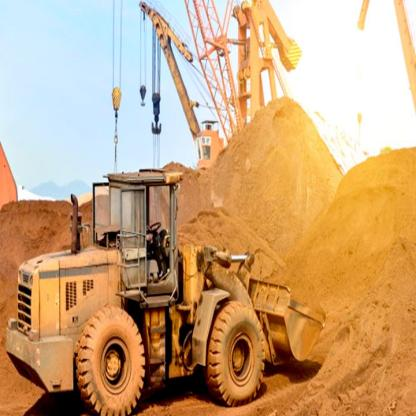bull_dozer/loader/grader: (12, 159, 334, 406)
